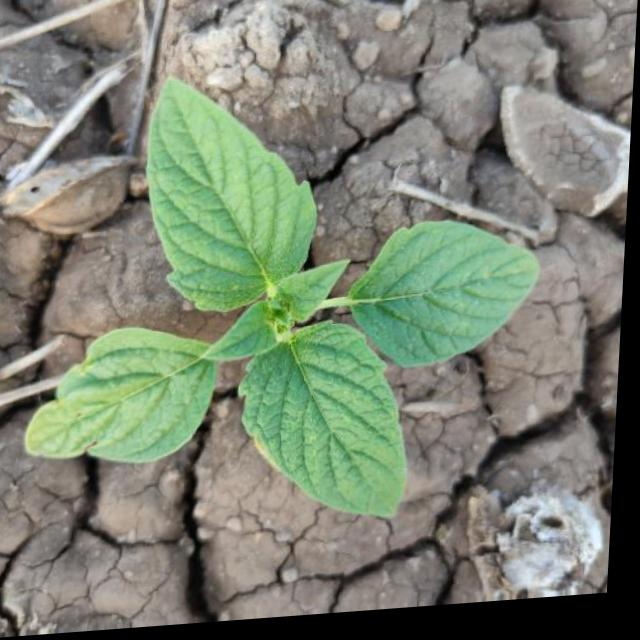crop: (25, 58, 547, 556)
